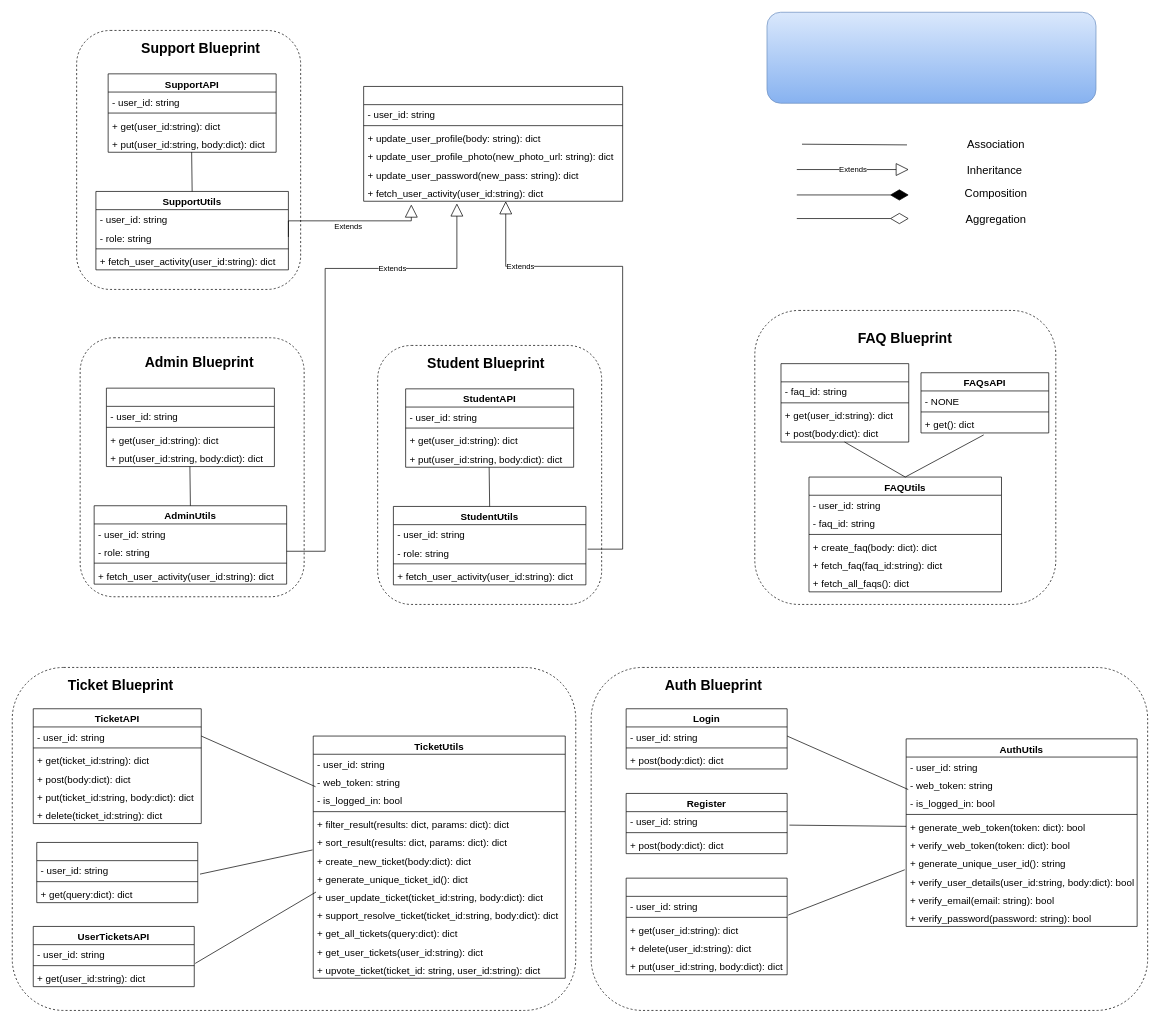
This 1160x1023 diagram has some shape labels left out. Each missing label, with the box of its shape:
AdminAPI: (106, 387, 274, 467)
AllTicketsAPI: (36, 842, 198, 903)
FAQAPI: (780, 363, 909, 442)
NewUsers: (625, 877, 787, 975)
UML Class Diagram: (766, 12, 1096, 103)
UserUtils: (363, 86, 623, 201)
